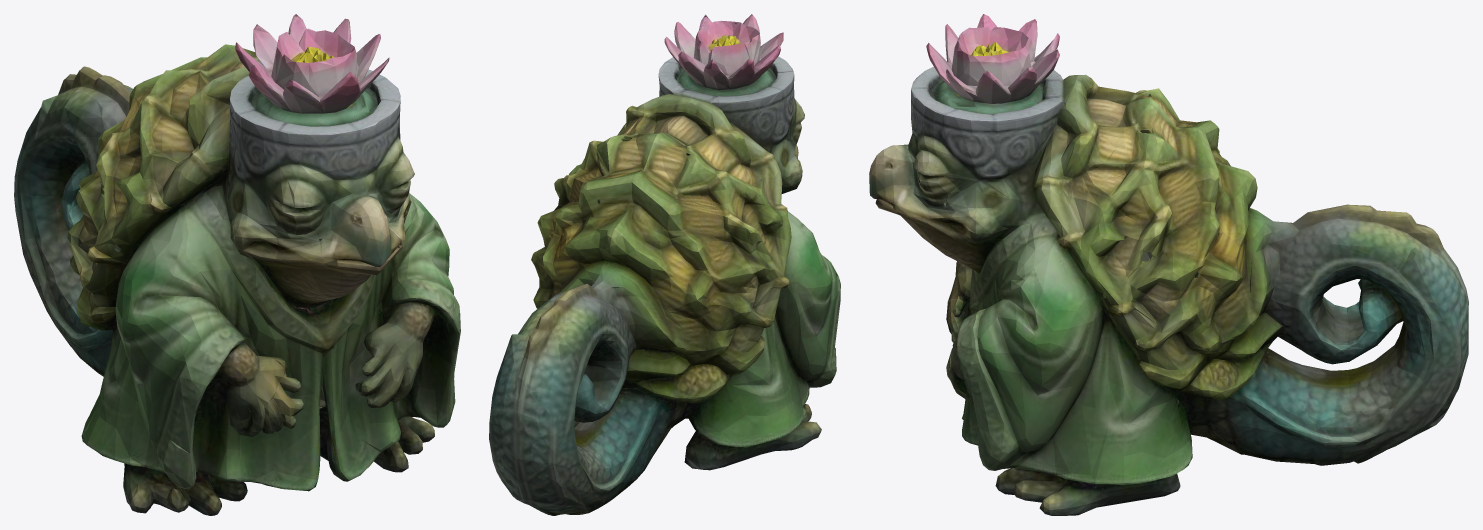
File: kappadeep__bowlKeeper.glb
3 renders of one model, left to right at view 1: azimuth 30°, elevation 25°; view 2: azimuth 150°, elevation 25°; view 3: azimuth 270°, elevation 25°, orthographic. The views are drawn at different scales.
Visible parts, largest first — view 1: world; view 2: world; view 3: world.
Boxes of the visible parts, x1=… form: world: x1=14, y1=14, x2=460, y2=515; world: x1=489, y1=14, x2=840, y2=515; world: x1=869, y1=14, x2=1468, y2=515.
Bounding box in the file's own units: 0.5573 × 0.7713 × 0.9992.
Materials: 1 (1 with a texture image).
